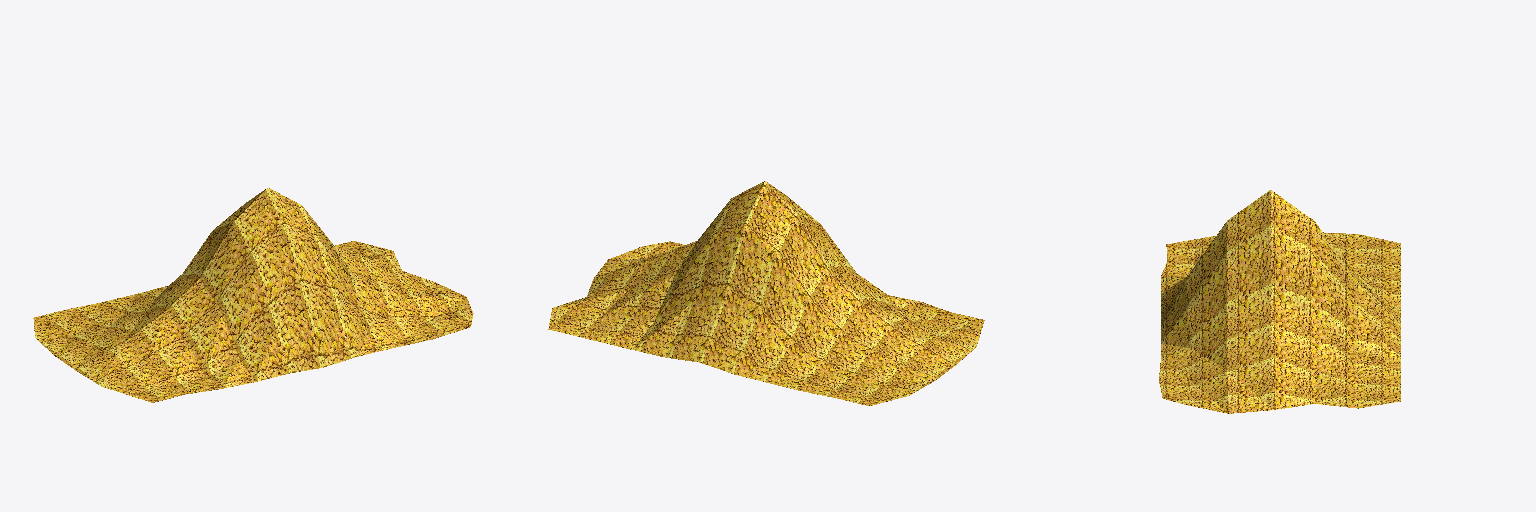
The picture shows the model from 3 angles: view 1: azimuth 30°, elevation 25°; view 2: azimuth 150°, elevation 25°; view 3: azimuth 270°, elevation 25°; orthographic projection.
Size of the model in its own units: 7.89 by 2.85 by 4.47.
1 materials, 1 textured.